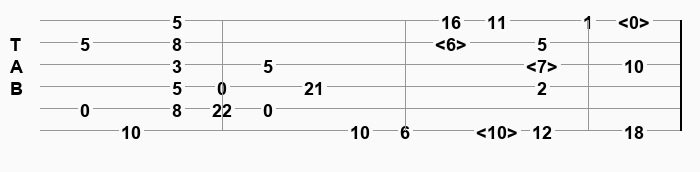0: (80, 100, 94, 117), (217, 78, 231, 95), (263, 100, 277, 117)
1: (583, 12, 597, 29)
10: (121, 122, 145, 139), (350, 122, 374, 139), (624, 56, 648, 73)
11: (487, 12, 511, 29)
12: (532, 122, 556, 139)
16: (441, 12, 465, 29)
18: (624, 122, 648, 139)
2: (537, 78, 551, 95)
21: (304, 78, 328, 95)
22: (212, 100, 236, 117)
3: (172, 56, 186, 73)
5: (80, 34, 94, 51), (172, 78, 186, 95), (172, 12, 186, 29), (263, 56, 277, 73), (537, 34, 551, 51)
6: (400, 122, 414, 139)
8: (172, 100, 186, 117), (172, 34, 186, 51)
harmonic: (476, 122, 522, 139), (435, 34, 471, 51), (526, 56, 562, 73), (618, 12, 654, 29)
